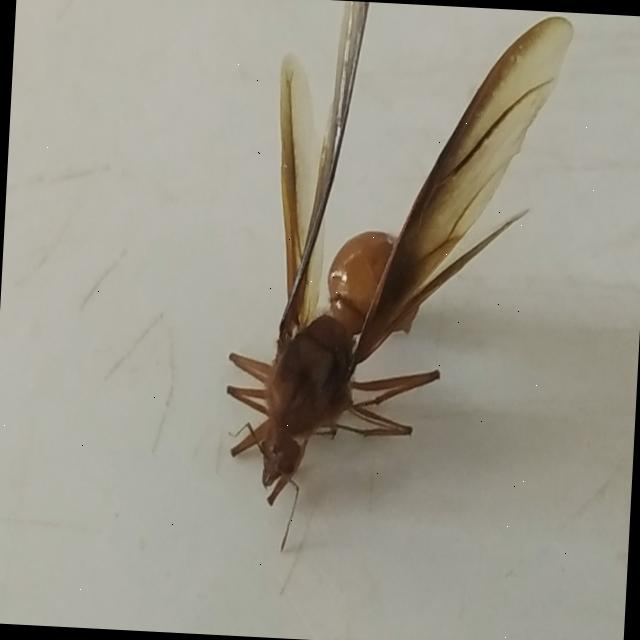Dead-Male-Alate: (217, 0, 575, 567)
